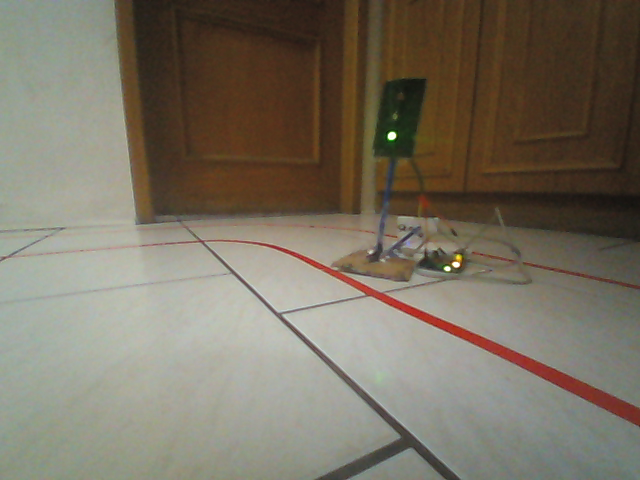green_sign: (369, 75, 428, 154)
